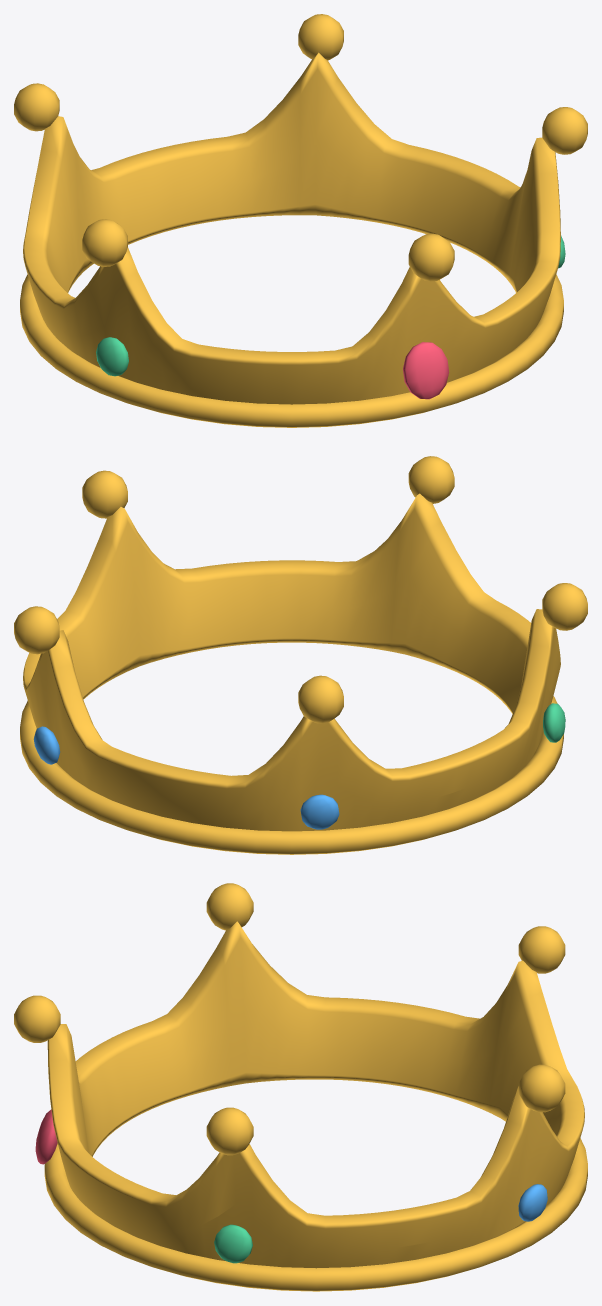
File: hat-crown.glb
3 renders of one model, top to bottom at view 1: azimuth 30°, elevation 25°; view 2: azimuth 150°, elevation 25°; view 3: azimuth 270°, elevation 25°, orthographic.
Visible parts, largest first — view 1: hat-crown-mesh; view 2: hat-crown-mesh; view 3: hat-crown-mesh.
Part boxes in pixels (bbox=[...]): hat-crown-mesh: bbox=[14, 14, 587, 427]; hat-crown-mesh: bbox=[14, 456, 587, 854]; hat-crown-mesh: bbox=[14, 883, 587, 1291].
Bounding box in the file's own units: 1.56 × 0.55 × 1.56.
